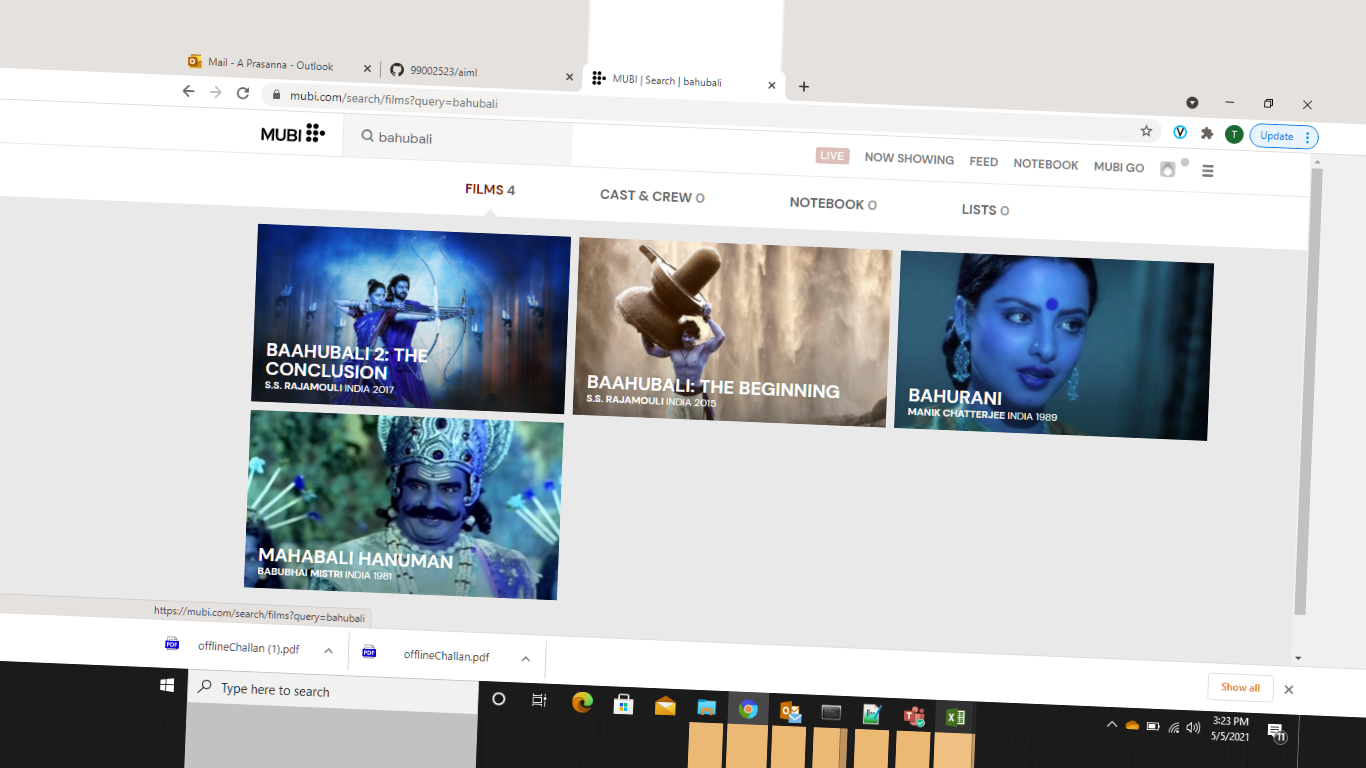profileicon: (1149, 149, 1188, 185)
searchicon: (346, 118, 378, 149)
searchtextbox: (335, 112, 585, 172)
